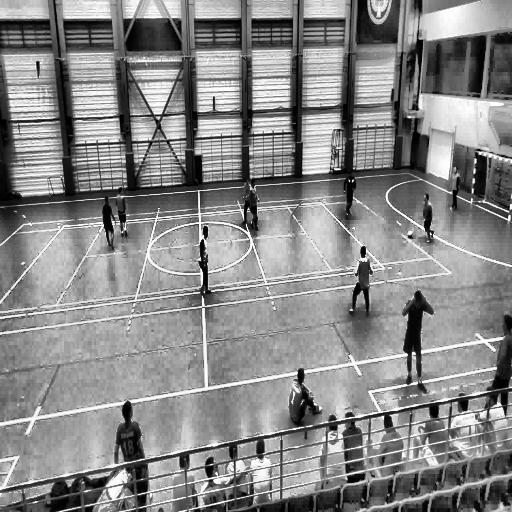ball: (406, 227, 414, 241)
player: (401, 289, 434, 389), (288, 367, 323, 438), (349, 245, 374, 318), (198, 224, 213, 298), (101, 196, 116, 250), (241, 176, 256, 227), (115, 186, 129, 238), (342, 172, 356, 220), (248, 179, 259, 234), (422, 193, 434, 243), (450, 166, 460, 211)
